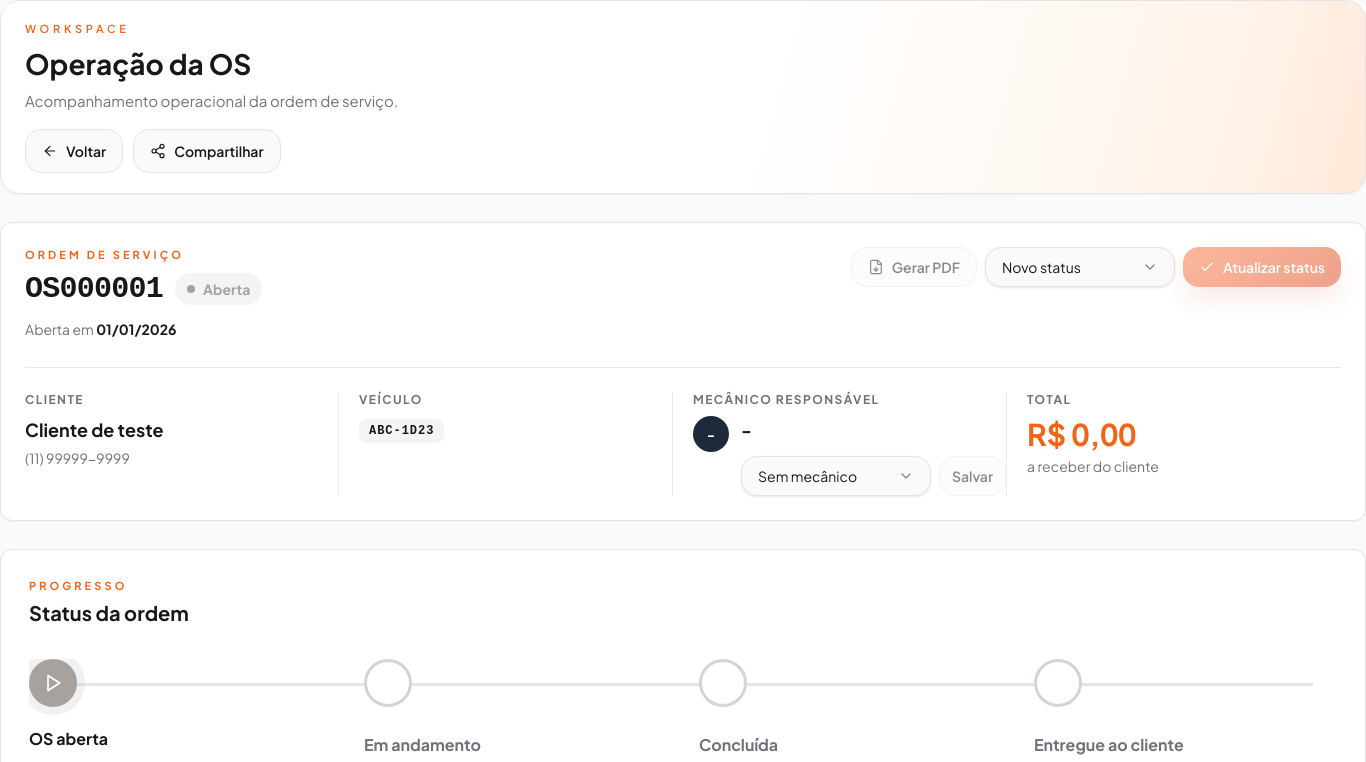
Test: ServiceOrderDetailsPage › atualiza status permitido da OS
This screenshot has width=1366, height=762.
What coordinates should you click on to do the following:
click the dropdown named "Novo status da OS"
I would click on:
 (1080, 266)
Its box is [985,246,1175,286].
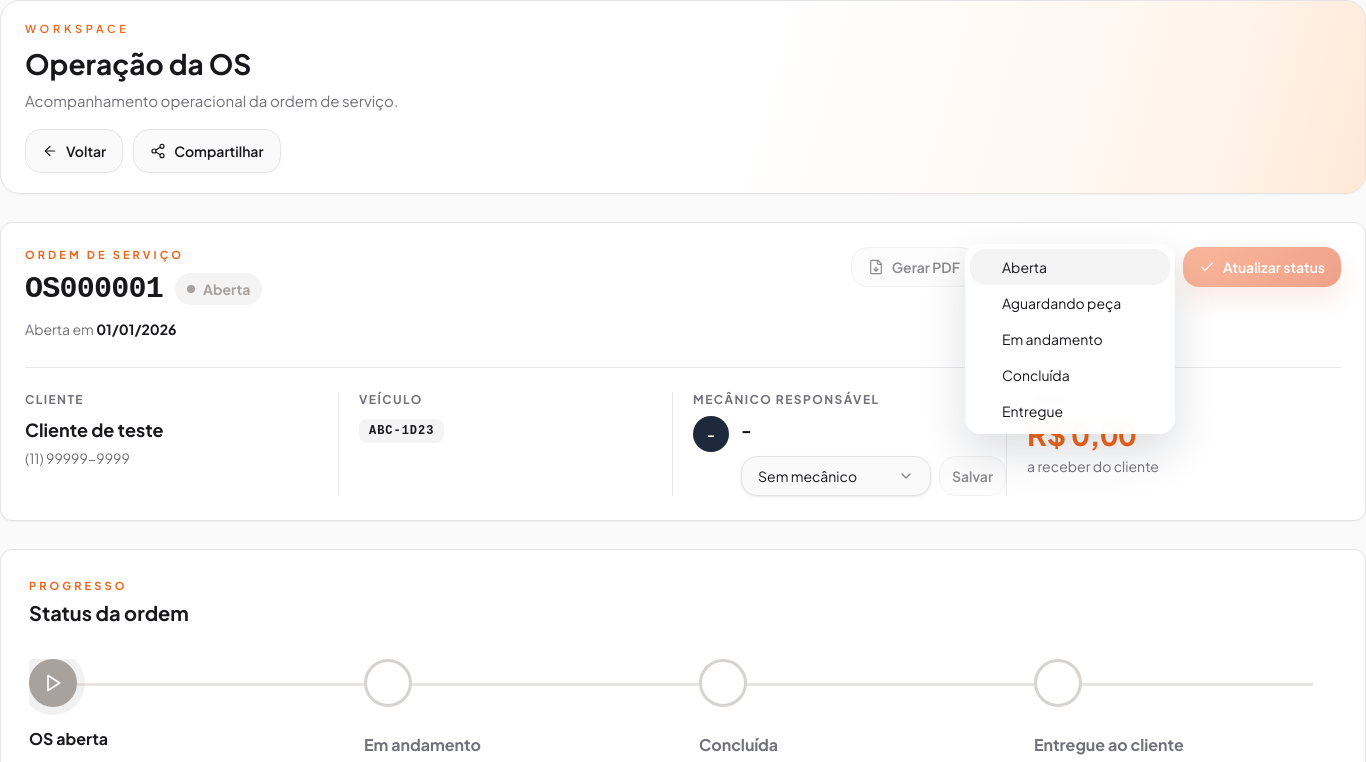
What coordinates should you click on to do the following:
click the option "Em andamento"
I would click on:
 (1052, 338)
Its box is [1002,330,1103,348].
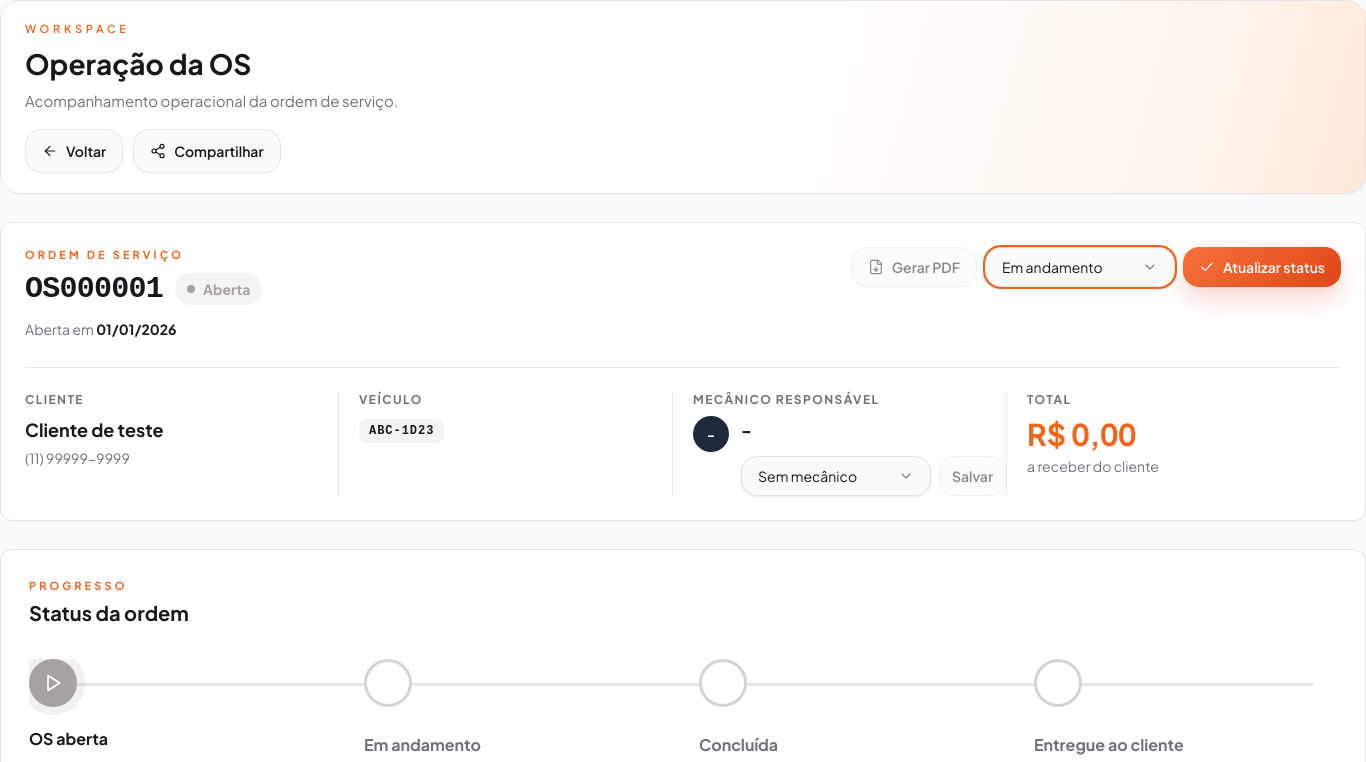
What coordinates should you click on to do the following:
click the button "Atualizar status"
I would click on:
 (1262, 266)
Its box is [1183,246,1341,286].
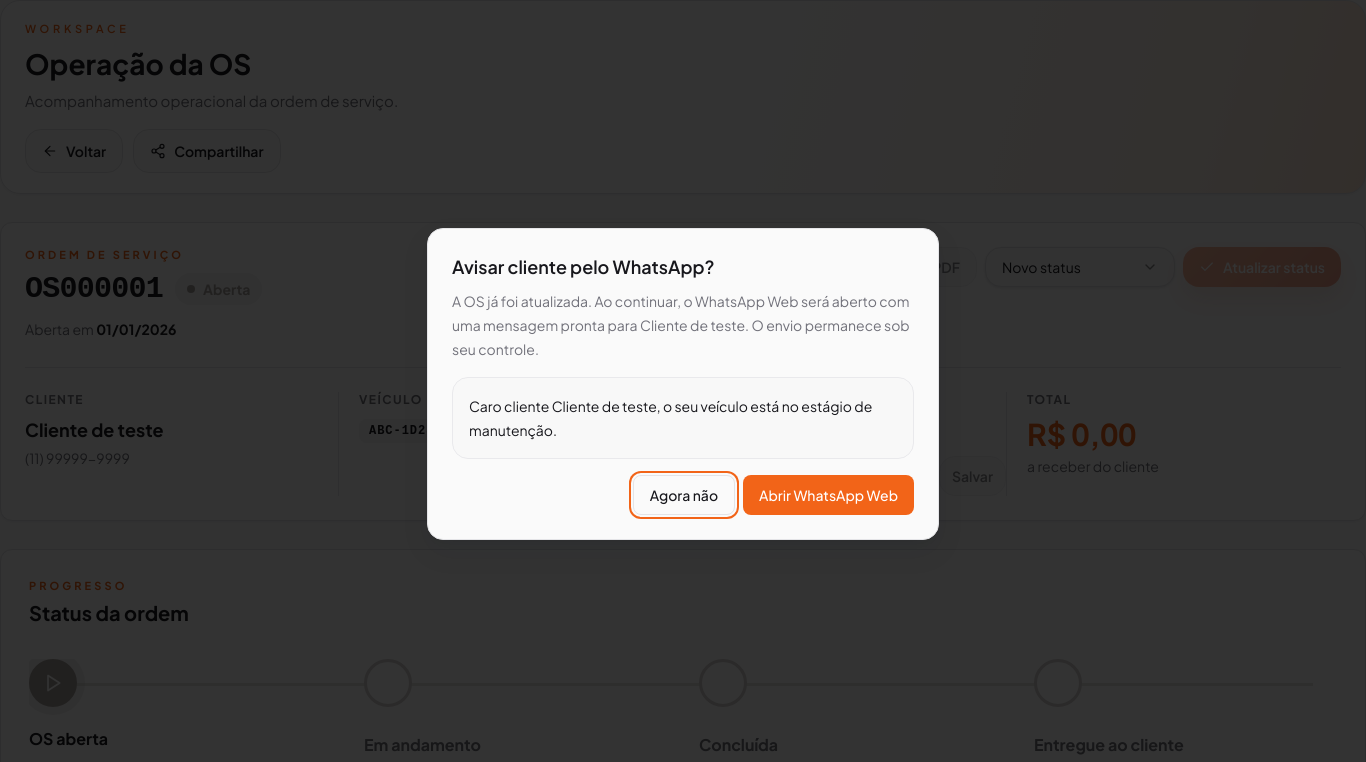
Expected: the heading "Avisar cliente pelo WhatsApp?" is shown, [452,255,714,278]
Expected: the text "estágio de manutenção" is shown, [469,397,872,439]
